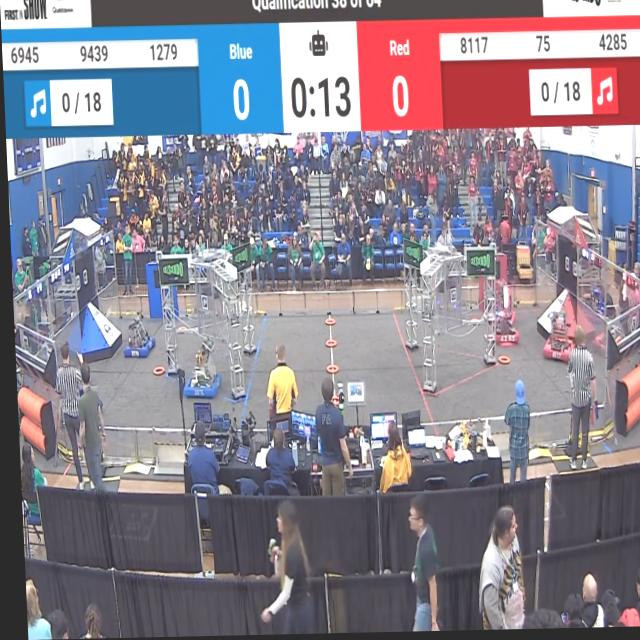Robot: (171, 328, 222, 403), (56, 363, 104, 437), (538, 285, 577, 372), (482, 276, 520, 359), (121, 311, 154, 367)
